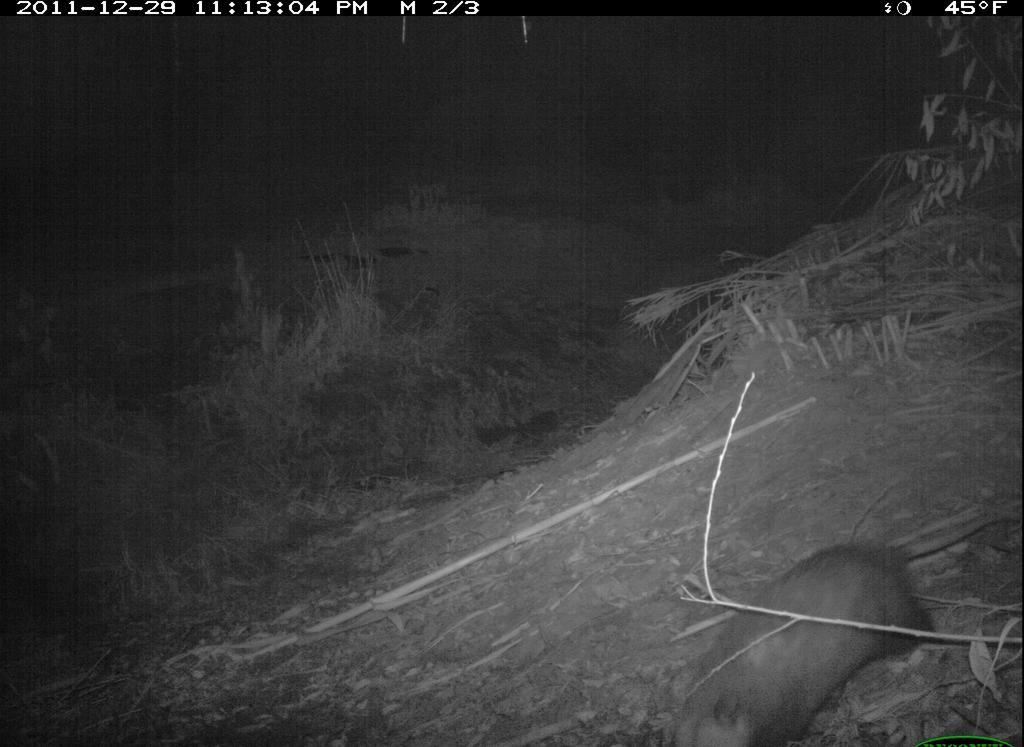opossum: (655, 510, 1023, 747)
